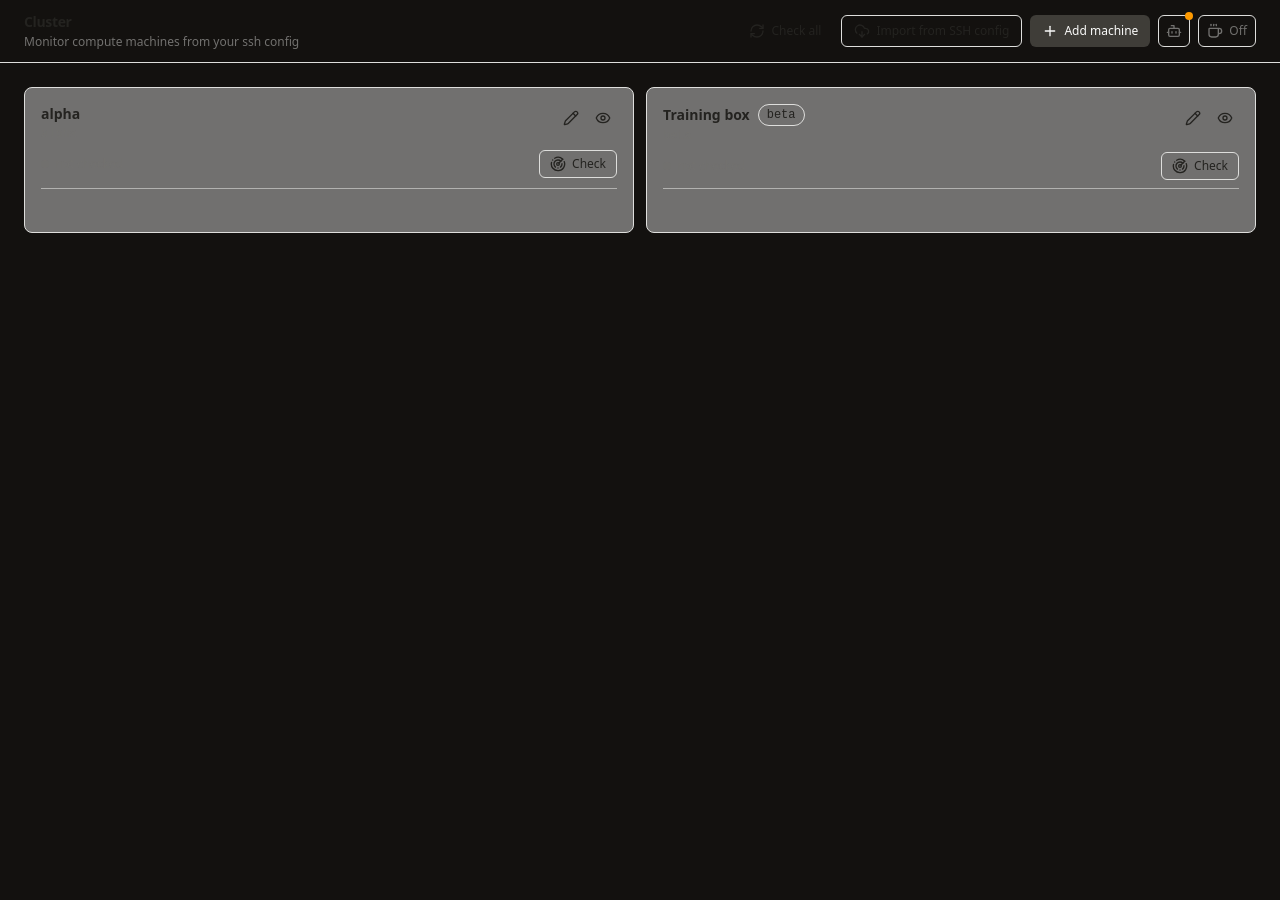
Test: ScienceCluster › the quick-open shortcut opens a machine finder that focuses the picked card
The width and height of the screenshot is (1280, 900).
Expected: the number of elements with test id "machine-card" is 2, [24,87,634,233]; [646,87,1256,233]
// ⌘F opens the finder over the machines (not projects).
Press f
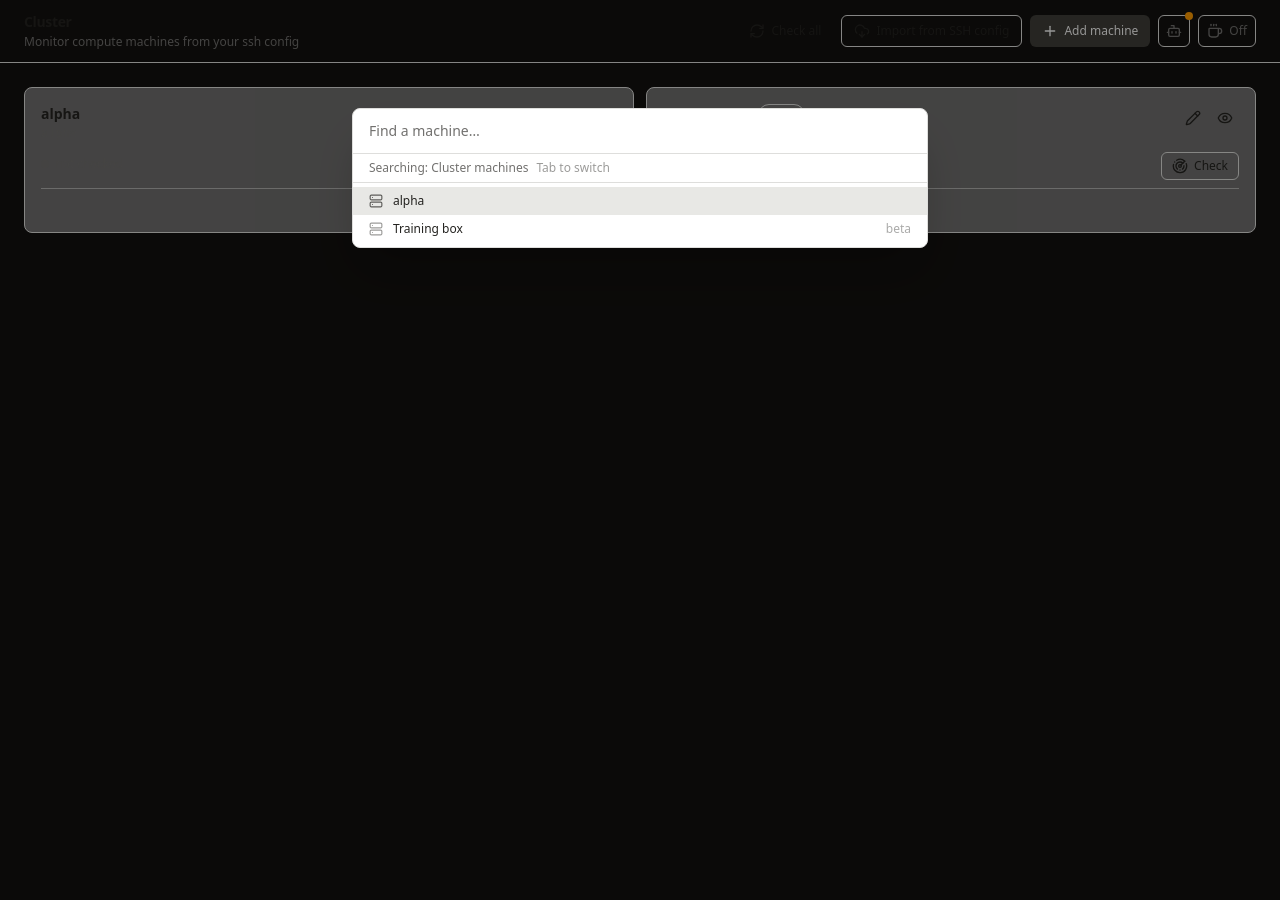
// Fuzzy-filtering by name narrows to the one machine and selecting it closes the finder…
In the field with test id "quick-find-input": (640, 132) [353,109,927,154], type "Training"
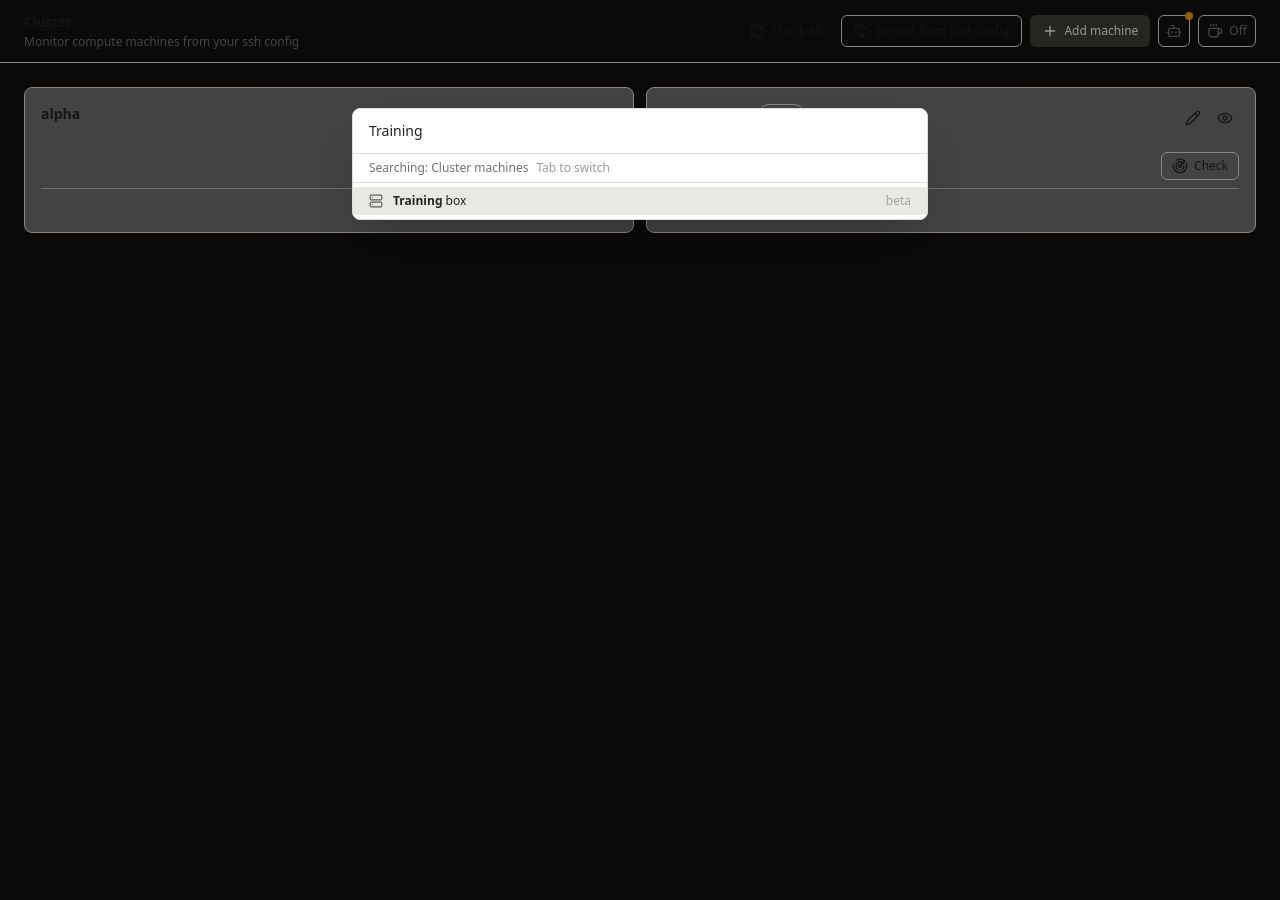
Expected: the number of buttons with test id "quick-find-item" is 1
Click the button with test id "quick-find-item": (418, 200) [353,187,927,215]
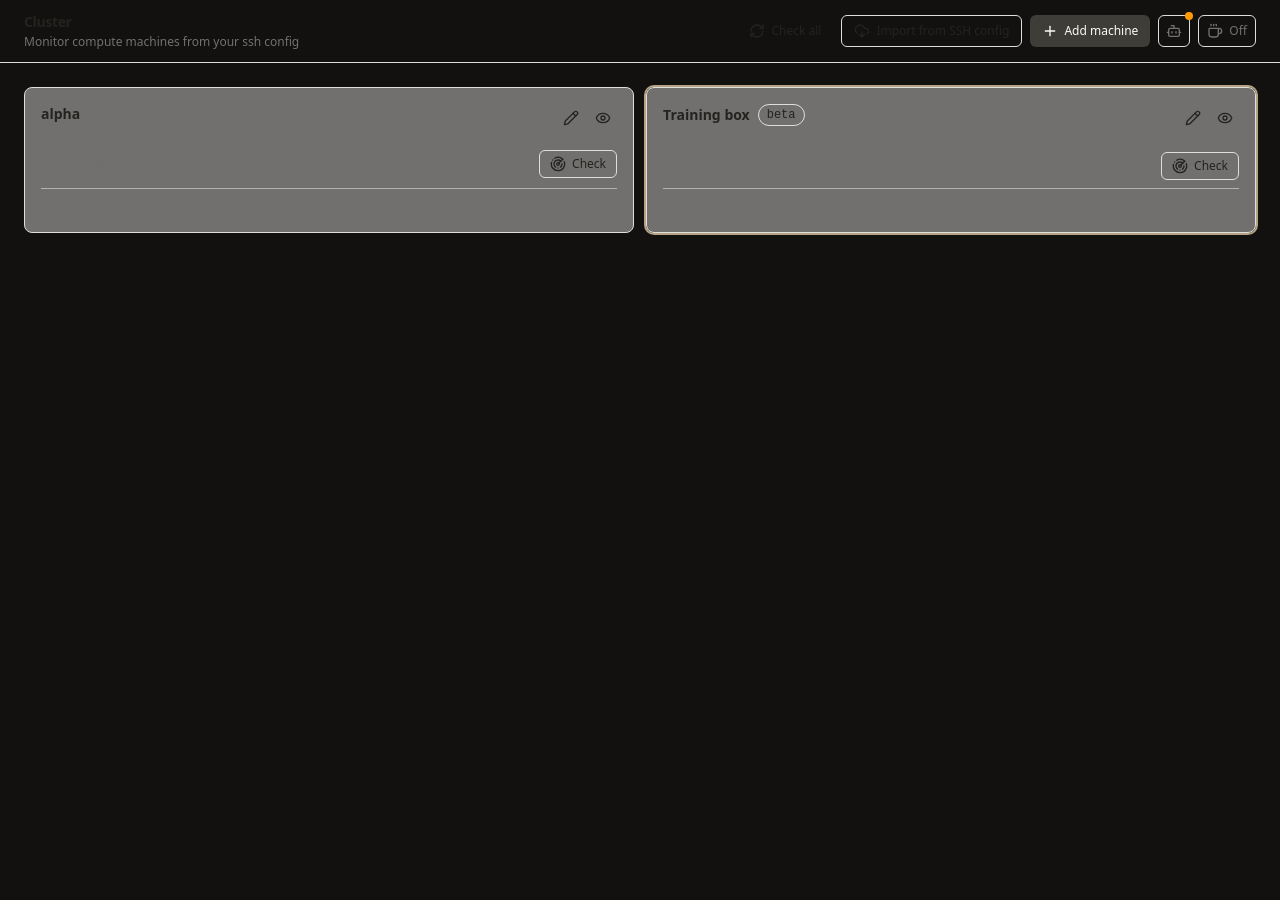
Expected: the dialog with test id "quick-find" is gone
